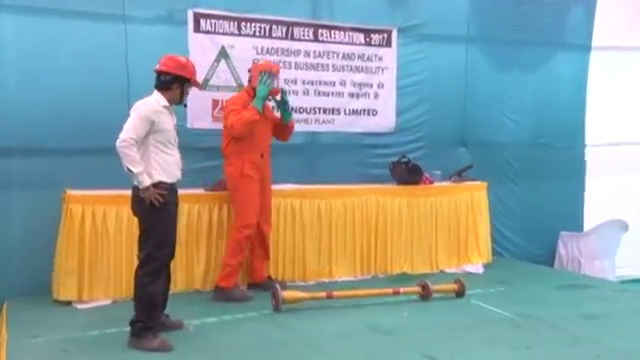helmet: (155, 54, 203, 89), (250, 56, 283, 82)
helmet_on: (150, 54, 202, 110), (246, 55, 284, 101)
person: (113, 52, 202, 352), (216, 57, 288, 301)
